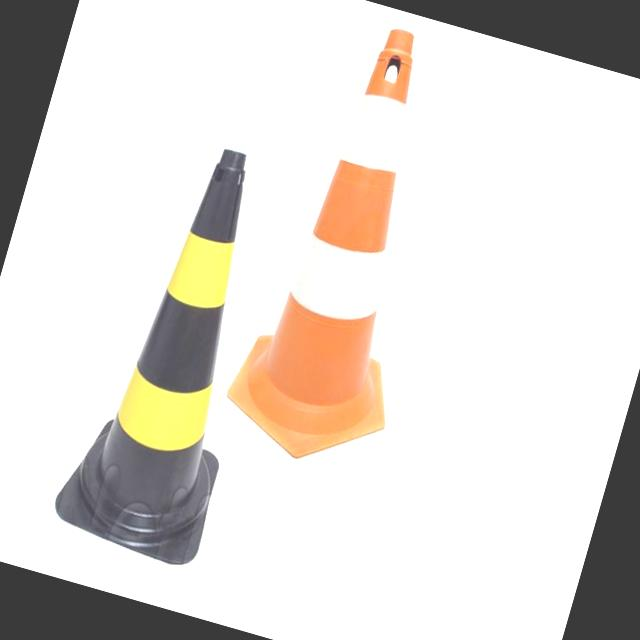cone: (231, 9, 490, 458), (44, 140, 298, 584)
